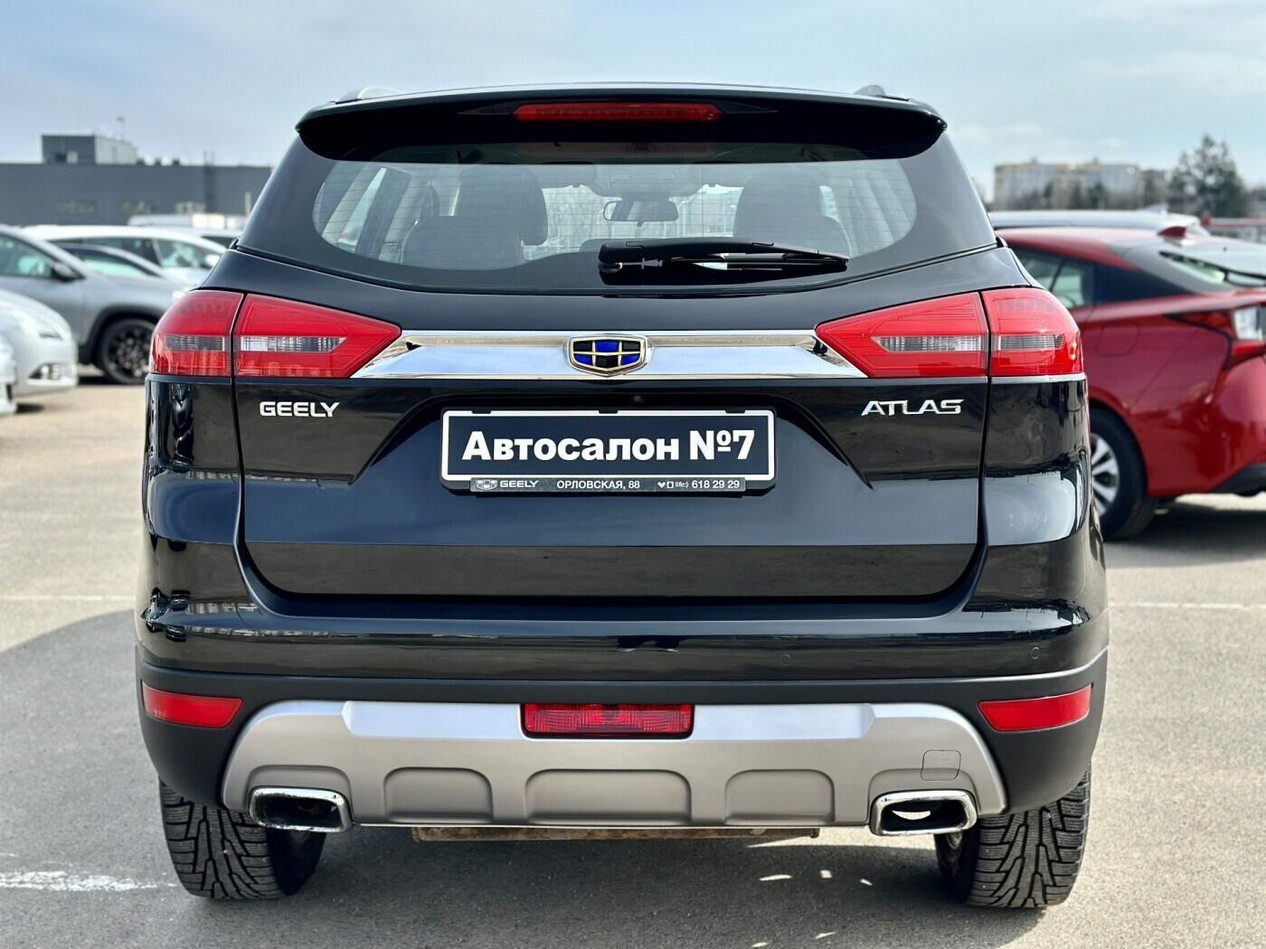Atlas_2016-2023: (134, 66, 1117, 919)
